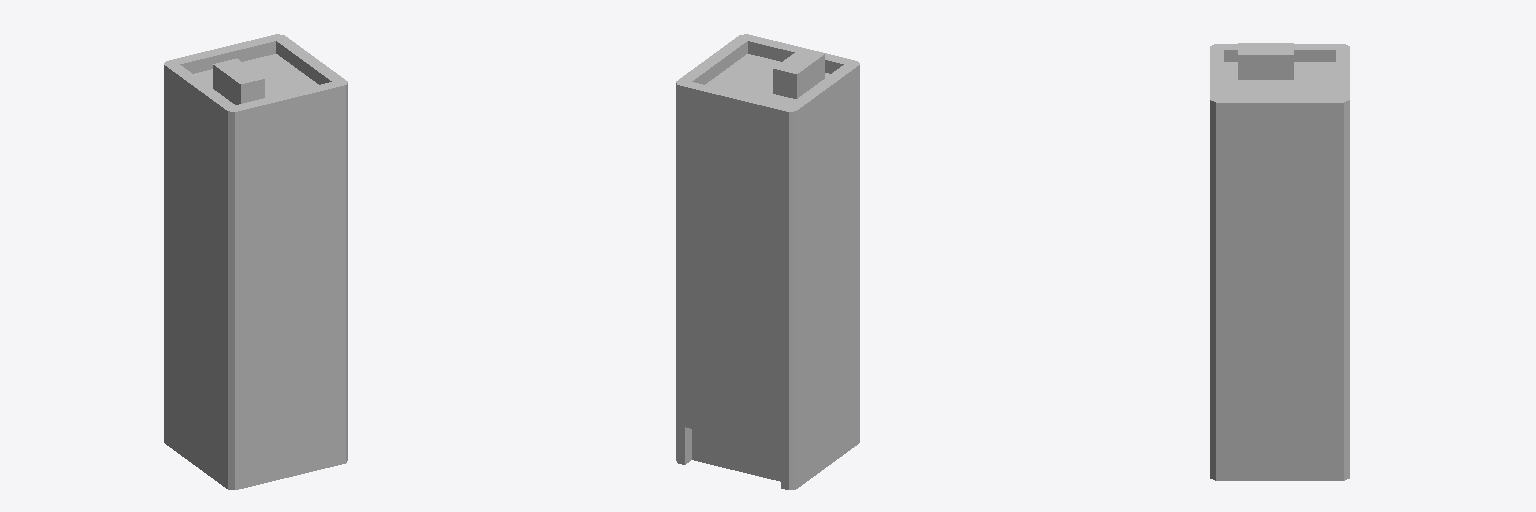
File: low-detail-building-k.obj
3 views of the same model, side by side, from view 1: azimuth 30°, elevation 25°; view 2: azimuth 150°, elevation 25°; view 3: azimuth 270°, elevation 25° (orthographic).
Visible parts, largest first — view 1: low-detail-building-k; view 2: low-detail-building-k; view 3: low-detail-building-k.
Part boxes in pixels (left/top/right/bottom): low-detail-building-k: left=164, top=34, right=347, bottom=489; low-detail-building-k: left=676, top=34, right=859, bottom=489; low-detail-building-k: left=1210, top=43, right=1349, bottom=480.
Bounding box in the file's own units: 0.5 × 1.55 × 0.5.